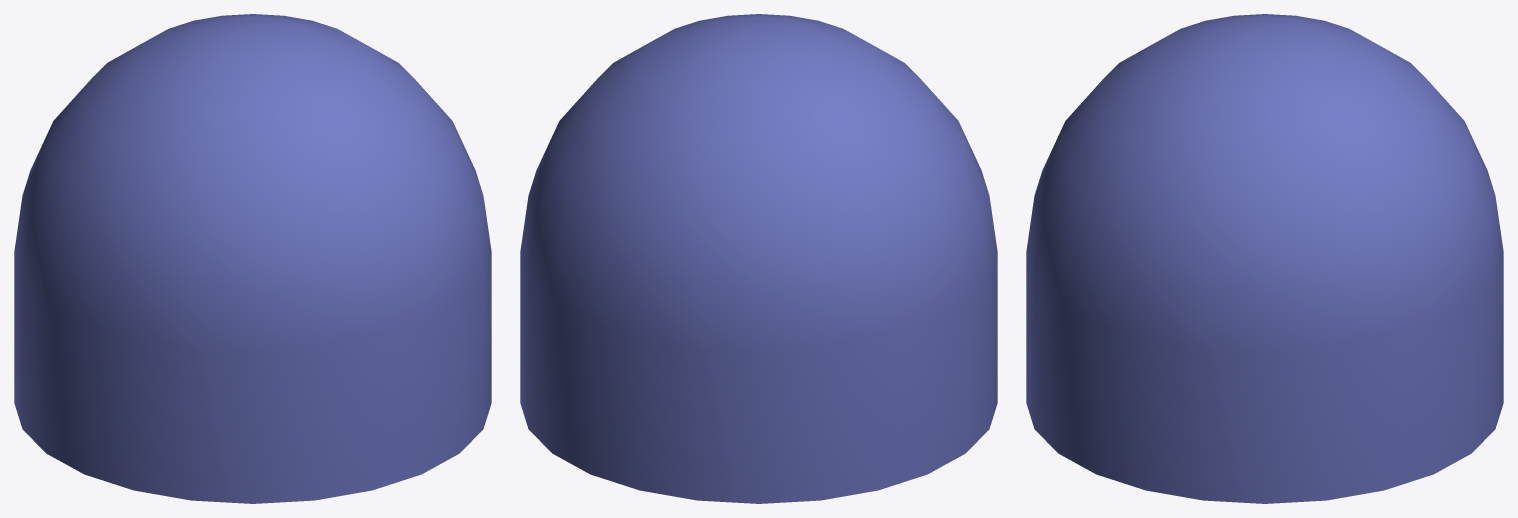
Rendered from museum_dome.fbx.
3 renders of one model, left to right at view 1: azimuth 30°, elevation 25°; view 2: azimuth 150°, elevation 25°; view 3: azimuth 270°, elevation 25°, orthographic.
Parts seen in each view (by area): view 1: Dome; view 2: Dome; view 3: Dome.
Boxes of the visible parts, box(x1,y1,x2,y2) form: Dome: box(14, 14, 491, 503); Dome: box(520, 14, 997, 503); Dome: box(1026, 14, 1503, 503).
Size of the model in its own units: 8 by 6.8 by 8.
